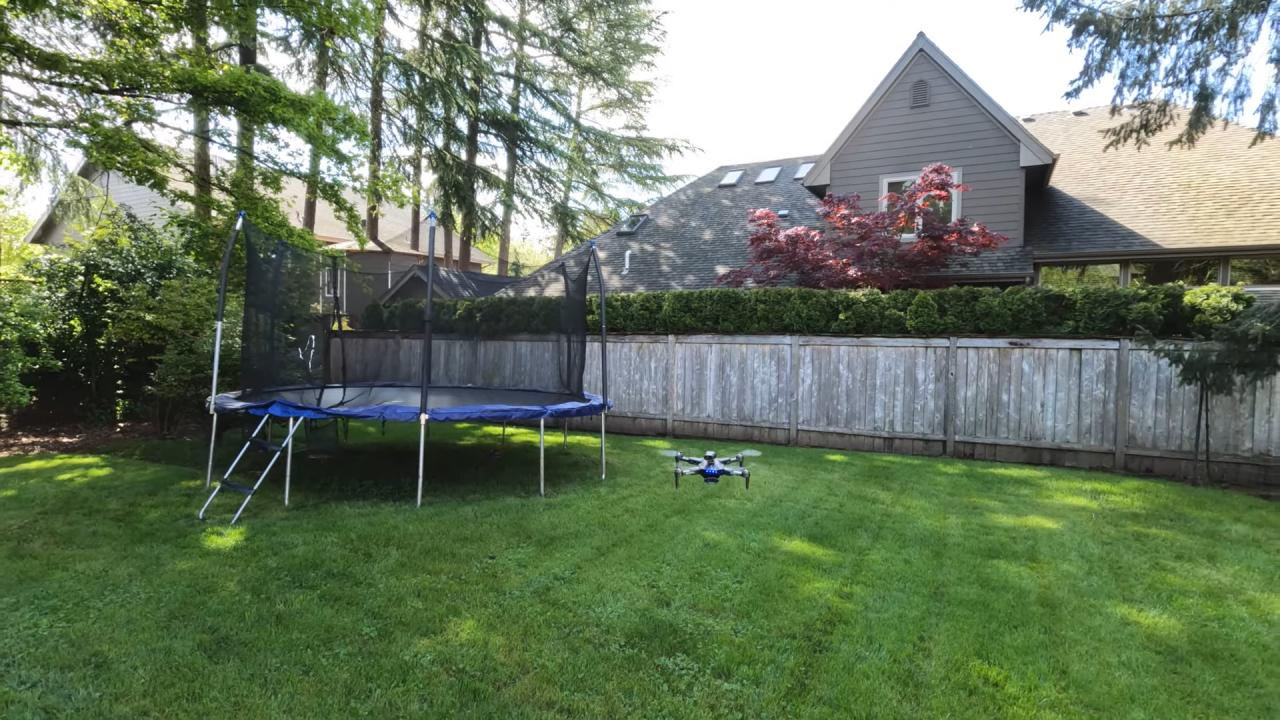Drone: (652, 435, 766, 502)
